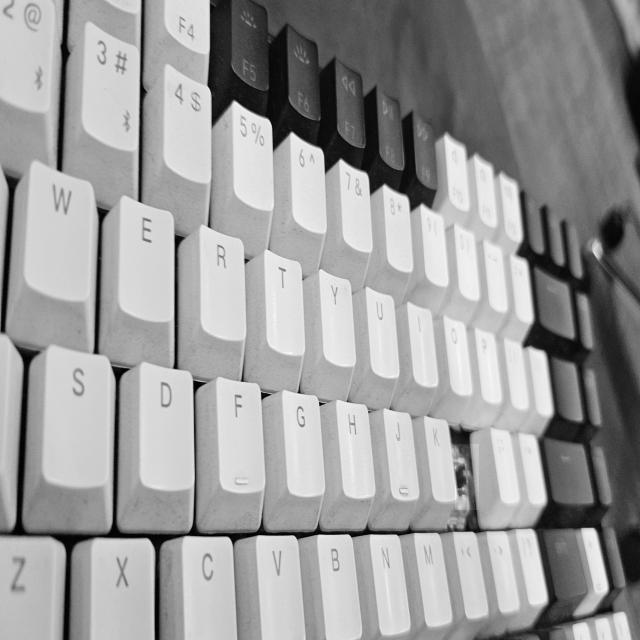C: (455, 444, 479, 510)
